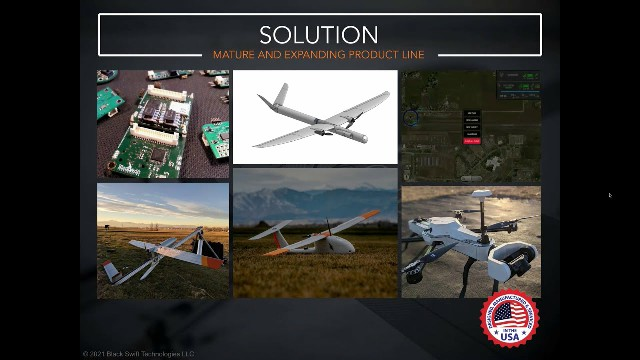maybay_khongnguoilai: (399, 200, 541, 293), (250, 82, 390, 152), (109, 221, 225, 294), (257, 211, 381, 258)
